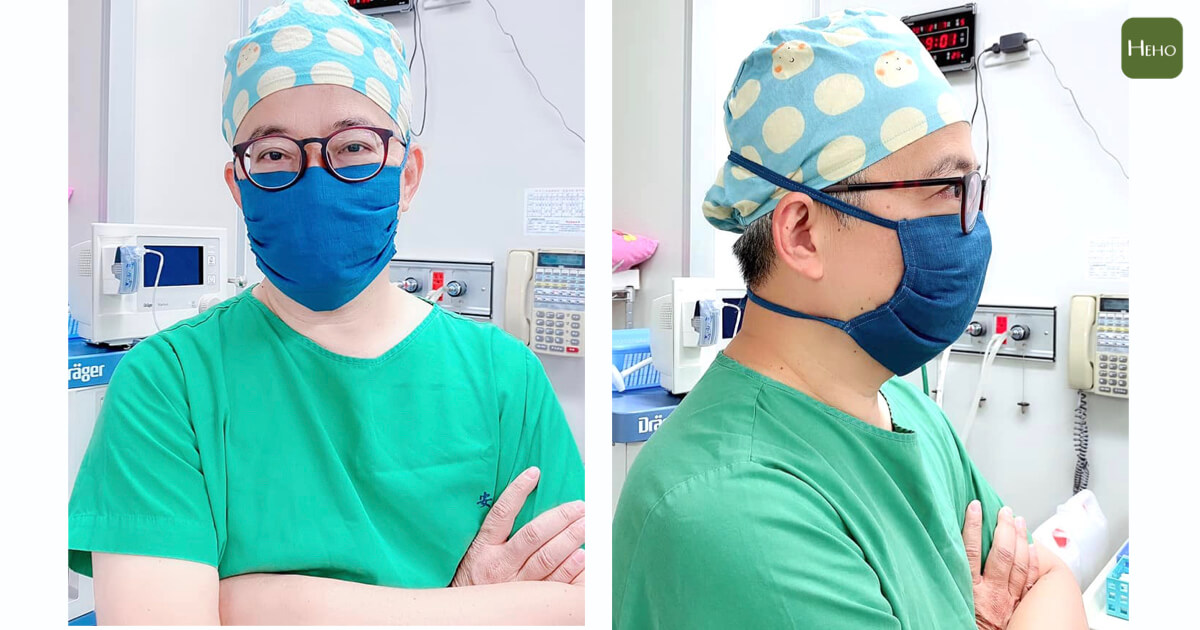Mask: (772, 126, 999, 375), (232, 85, 404, 317)
